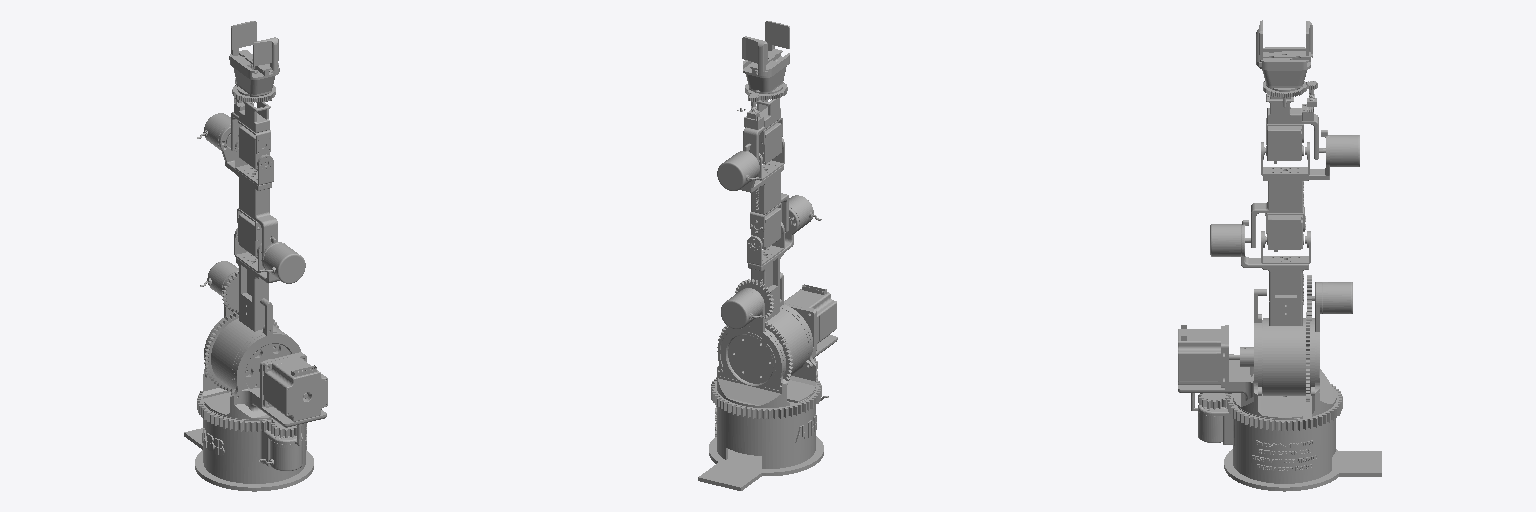
The robot description file, URDF, robot "robotic":
<?xml version="1.0" ?>
<robot name="robotic">

  <material name="silver">
    <color rgba="0.700 0.700 0.700 1.000"/>
  </material>

  <link name="base_link">
    <inertial>
      <origin xyz="-0.0006197580582812044 -0.033206671784566606 0.010865637221635136" rpy="0 0 0"/>
      <mass value="0.43302193292479546"/>
      <inertia ixx="0.001313" iyy="0.001432" izz="0.000805" ixy="6e-06" iyz="-0.000148" ixz="2.1e-05"/>
    </inertial>
    <visual>
      <origin xyz="0 0 0" rpy="1.5708 0 0"/>
      <geometry>
        <mesh filename="meshes/base_link.stl" scale="0.001 0.001 0.001"/>
      </geometry>
      <material name="silver"/>
    </visual>
    <collision>
      <origin xyz="0 0 0" rpy="1.5708 0 0"/>
      <geometry>
        <mesh filename="meshes/base_link.stl" scale="0.001 0.001 0.001"/>
      </geometry>
    </collision>
  </link>

  <link name="SHOULDER_1">
    <inertial>
      <origin xyz="-2.8680225580023265e-05 0.062031226314745724 0.07526534523296123" rpy="0 0 0"/>
      <mass value="1.5905060599186267"/>
      <inertia ixx="0.00487" iyy="0.004113" izz="0.001823" ixy="-2e-06" iyz="0.000179" ixz="-0.0"/>
    </inertial>
    <visual>
      <origin xyz="-0.0 -0.000487 -0.0" rpy="0 0 0"/>
      <geometry>
        <mesh filename="meshes/SHOULDER_1.stl" scale="0.001 0.001 0.001"/>
      </geometry>
      <material name="silver"/>
    </visual>
    <collision>
      <origin xyz="-0.0 -0.000487 -0.0" rpy="0 0 0"/>
      <geometry>
        <mesh filename="meshes/SHOULDER_1.stl" scale="0.001 0.001 0.001"/>
      </geometry>
    </collision>
  </link>

  <link name="LOWER_ARM_1">
    <inertial>
      <origin xyz="0.00022188412497526803 0.044088835954916084 -0.02046970272003481" rpy="0 0 0"/>
      <mass value="2.24700987919169"/>
      <inertia ixx="0.011497" iyy="0.003238" izz="0.010342" ixy="-5.4e-05" iyz="-0.002861" ixz="-2.8e-05"/>
    </inertial>
    <visual>
      <origin xyz="-0.0 -0.064574 -0.03115" rpy="0 0 0"/>
      <geometry>
        <mesh filename="meshes/LOWER_ARM_1.stl" scale="0.001 0.001 0.001"/>
      </geometry>
      <material name="silver"/>
    </visual>
    <collision>
      <origin xyz="-0.0 -0.064574 -0.03115" rpy="0 0 0"/>
      <geometry>
        <mesh filename="meshes/LOWER_ARM_1.stl" scale="0.001 0.001 0.001"/>
      </geometry>
    </collision>
  </link>

  <link name="UPPER_ARM_1">
    <inertial>
      <origin xyz="-4.616653372606889e-05 0.0639979803152878 0.005626819880352827" rpy="0 0 0"/>
      <mass value="0.15526470472872758"/>
      <inertia ixx="0.000483" iyy="0.0002" izz="0.000299" ixy="0.0" iyz="0.000173" ixz="-0.0"/>
    </inertial>
    <visual>
      <origin xyz="0.0 -0.214478 0.0276" rpy="0 0 0"/>
      <geometry>
        <mesh filename="meshes/UPPER_ARM_1.stl" scale="0.001 0.001 0.001"/>
      </geometry>
      <material name="silver"/>
    </visual>
    <collision>
      <origin xyz="0.0 -0.214478 0.0276" rpy="0 0 0"/>
      <geometry>
        <mesh filename="meshes/UPPER_ARM_1.stl" scale="0.001 0.001 0.001"/>
      </geometry>
    </collision>
  </link>

  <link name="WRIST_1">
    <inertial>
      <origin xyz="-6.006126105094087e-06 0.022392627588266822 -0.0001885326507429853" rpy="0 0 0"/>
      <mass value="0.062244194694843255"/>
      <inertia ixx="2.4e-05" iyy="2.1e-05" izz="1.8e-05" ixy="-0.0" iyz="-0.0" ixz="0.0"/>
    </inertial>
    <visual>
      <origin xyz="-0.0 -0.407987 -0.0001" rpy="0 0 0"/>
      <geometry>
        <mesh filename="meshes/WRIST_1.stl" scale="0.001 0.001 0.001"/>
      </geometry>
      <material name="silver"/>
    </visual>
    <collision>
      <origin xyz="-0.0 -0.407987 -0.0001" rpy="0 0 0"/>
      <geometry>
        <mesh filename="meshes/WRIST_1.stl" scale="0.001 0.001 0.001"/>
      </geometry>
    </collision>
  </link>

  <link name="finger_1_1">
    <inertial>
      <origin xyz="-0.0007126631883796379 0.016327909388517248 0.05456077201686822" rpy="0 0 0"/>
      <mass value="0.0544277408008124"/>
      <inertia ixx="1.4e-05" iyy="8e-06" izz="1.4e-05" ixy="3e-06" iyz="-3e-06" ixz="1e-06"/>
    </inertial>
    <visual>
      <origin xyz="-0.006 -0.447874 0.0298" rpy="0 0 0"/>
      <geometry>
        <mesh filename="meshes/finger_1_1.stl" scale="0.001 0.001 0.001"/>
      </geometry>
      <material name="silver"/>
    </visual>
    <collision>
      <origin xyz="-0.006 -0.447874 0.0298" rpy="0 0 0"/>
      <geometry>
        <mesh filename="meshes/finger_1_1.stl" scale="0.001 0.001 0.001"/>
      </geometry>
    </collision>
  </link>

  <link name="finger_1_2">
    <inertial>
      <origin xyz="0.0007126631883832904 0.016327909388515915 0.0002391557905749818" rpy="0 0 0"/>
      <mass value="0.0544277408008124"/>
      <inertia ixx="1.4e-05" iyy="8e-06" izz="1.4e-05" ixy="-3e-06" iyz="3e-06" ixz="1e-06"/>
    </inertial>
    <visual>
      <origin xyz="0.006 -0.447874 0.024136" rpy="0 0 0"/>
      <geometry>
        <mesh filename="meshes/finger_1_2.stl" scale="0.001 0.001 0.001"/>
      </geometry>
      <material name="silver"/>
    </visual>
    <collision>
      <origin xyz="0.006 -0.447874 0.024136" rpy="0 0 0"/>
      <geometry>
        <mesh filename="meshes/finger_1_2.stl" scale="0.001 0.001 0.001"/>
      </geometry>
    </collision>
  </link>

  <link name="WRIST_ARM_v1_1">
    <inertial>
      <origin xyz="0.00013557693321748665 0.02430753708099259 -0.030810701686775542" rpy="0 0 0"/>
      <mass value="0.4651410516079968"/>
      <inertia ixx="0.000359" iyy="0.000152" izz="0.000241" ixy="-2e-06" iyz="2.5e-05" ixz="0.0"/>
    </inertial>
    <visual>
      <origin xyz="1.1e-05 -0.328187 -0.02585" rpy="0 0 0"/>
      <geometry>
        <mesh filename="meshes/WRIST_ARM_v1_1.stl" scale="0.001 0.001 0.001"/>
      </geometry>
      <material name="silver"/>
    </visual>
    <collision>
      <origin xyz="1.1e-05 -0.328187 -0.02585" rpy="0 0 0"/>
      <geometry>
        <mesh filename="meshes/WRIST_ARM_v1_1.stl" scale="0.001 0.001 0.001"/>
      </geometry>
    </collision>
  </link>

  <joint name="base_joint" type="continuous">
    <origin xyz="0.0 0.000487 0.0" rpy="1.5708 0 0"/>
    <parent link="base_link"/>
    <child link="SHOULDER_1"/>
    <axis xyz="0.0 -1.0 0.0"/>
  </joint>

  <joint name="shoulder_joint" type="continuous">
    <origin xyz="0.0 0.064087 0.03115" rpy="0 0 0"/>
    <parent link="SHOULDER_1"/>
    <child link="LOWER_ARM_1"/>
    <axis xyz="0.0 -0.0 -1.0"/>
  </joint>

  <joint name="upper_lower_arm_joint" type="continuous">
    <origin xyz="-0.0 0.149904 -0.05875" rpy="0 0 0"/>
    <parent link="LOWER_ARM_1"/>
    <child link="UPPER_ARM_1"/>
    <axis xyz="-0.0 0.0 1.0"/>
  </joint>

  <joint name="wrist_joint" type="continuous">
    <origin xyz="1.1e-05 0.0798 -0.02575" rpy="0 0 0"/>
    <parent link="WRIST_ARM_v1_1"/>
    <child link="WRIST_1"/>
    <axis xyz="-0.0 -1.0 -0.0"/>
  </joint>

  <joint name="Slider 7" type="prismatic">
    <origin xyz="0.006 0.039887 -0.0299" rpy="0 0 0"/>
    <parent link="WRIST_1"/>
    <child link="finger_1_1"/>
    <axis xyz="-0.0 -0.0 -1.0"/>
    <limit upper="0.0" lower="0.0" effort="100" velocity="100"/>
  </joint>

  <joint name="Slider 8" type="prismatic">
    <origin xyz="-0.006 0.039887 -0.024236" rpy="0 0 0"/>
    <parent link="WRIST_1"/>
    <child link="finger_1_2"/>
    <axis xyz="-0.0 -0.0 -1.0"/>
    <limit upper="0.0" lower="0.0" effort="100" velocity="100"/>
  </joint>

  <joint name="upper_wrist_joint" type="continuous">
    <origin xyz="-1.1e-05 0.113709 0.05345" rpy="0 0 0"/>
    <parent link="UPPER_ARM_1"/>
    <child link="WRIST_ARM_v1_1"/>
    <axis xyz="-0.0 0.0 -1.0"/>
  </joint>

</robot>

--- Render facts (derived) ---
Views: 3 orthographic renders of the robot side by side, from view 1: azimuth 30°, elevation 25°; view 2: azimuth 150°, elevation 25°; view 3: azimuth 270°, elevation 25°.
Model robotic with 8 links and 7 joints (5 continuous, 2 prismatic), rooted at base_link, posed all joints at 0.
Links seen in each view (by area): view 1: SHOULDER_1, base_link, LOWER_ARM_1, UPPER_ARM_1, WRIST_ARM_v1_1, WRIST_1, finger_1_2, finger_1_1; view 2: SHOULDER_1, base_link, LOWER_ARM_1, UPPER_ARM_1, WRIST_ARM_v1_1, WRIST_1, finger_1_2, finger_1_1; view 3: SHOULDER_1, base_link, LOWER_ARM_1, UPPER_ARM_1, WRIST_ARM_v1_1, WRIST_1.
Link boxes in pixels (x1,y1,x2,y2): SHOULDER_1: [197, 261, 327, 431]; base_link: [184, 419, 313, 491]; LOWER_ARM_1: [204, 228, 305, 394]; UPPER_ARM_1: [197, 113, 277, 258]; WRIST_ARM_v1_1: [231, 78, 271, 170]; WRIST_1: [230, 50, 278, 102]; finger_1_2: [229, 21, 256, 66]; finger_1_1: [253, 37, 279, 74]; SHOULDER_1: [711, 272, 837, 419]; base_link: [698, 358, 828, 490]; LOWER_ARM_1: [717, 195, 821, 384]; UPPER_ARM_1: [717, 138, 788, 249]; WRIST_ARM_v1_1: [737, 94, 783, 164]; WRIST_1: [743, 49, 789, 99]; finger_1_2: [742, 36, 775, 75]; finger_1_1: [765, 21, 789, 53]; SHOULDER_1: [1178, 275, 1352, 431]; base_link: [1191, 393, 1381, 491]; LOWER_ARM_1: [1210, 220, 1314, 401]; UPPER_ARM_1: [1251, 130, 1359, 251]; WRIST_ARM_v1_1: [1263, 81, 1318, 163]; WRIST_1: [1259, 47, 1310, 97].
Bounding box of the posed robot: 0.14 × 0.2369 × 0.5623 m (x, y, z).
Meshes: 8 distinct files referenced, 8 mesh visuals loaded (8 binary STL).